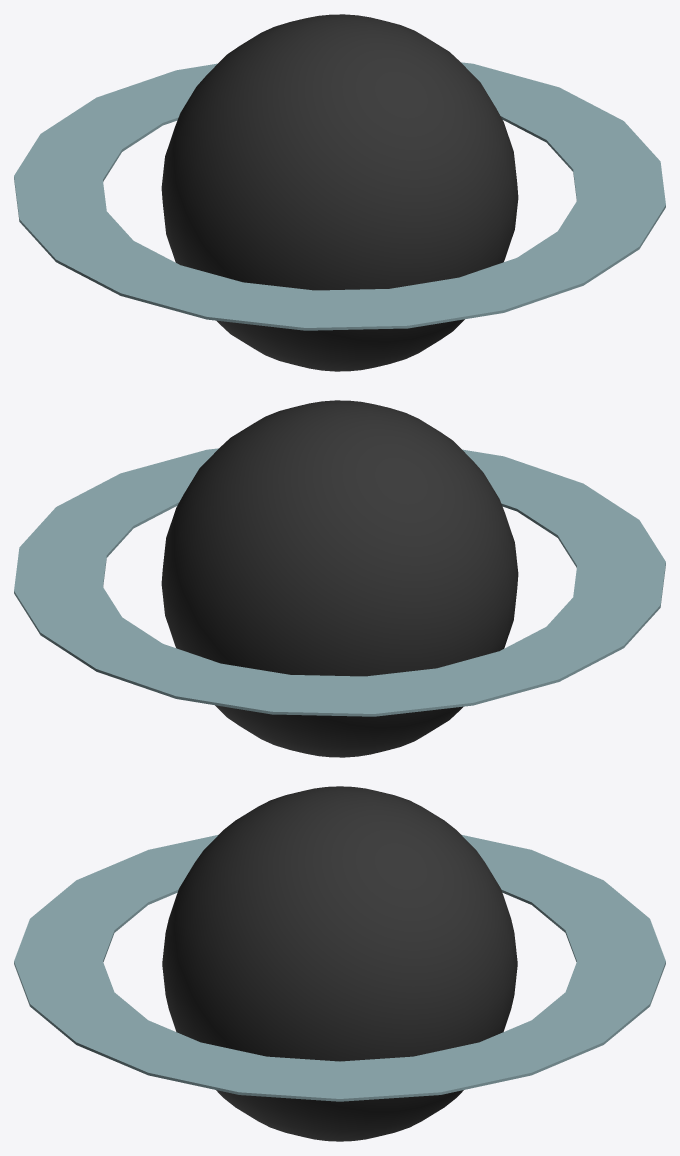
Rendered from Gas1.fbx.
3 views of the same model, one above another, from view 1: azimuth 30°, elevation 25°; view 2: azimuth 150°, elevation 25°; view 3: azimuth 270°, elevation 25° (orthographic).
Parts seen in each view (by area): view 1: Sphere001, Tube001; view 2: Sphere001, Tube001; view 3: Sphere001, Tube001.
Part boxes in pixels (x1,y1,x2,y2): Sphere001: [161, 14, 518, 371]; Tube001: [14, 62, 665, 330]; Sphere001: [161, 400, 518, 757]; Tube001: [14, 448, 665, 716]; Sphere001: [162, 786, 517, 1141]; Tube001: [14, 834, 665, 1101].
Bounding box in the file's own units: 43.31 × 23.62 × 43.31.
